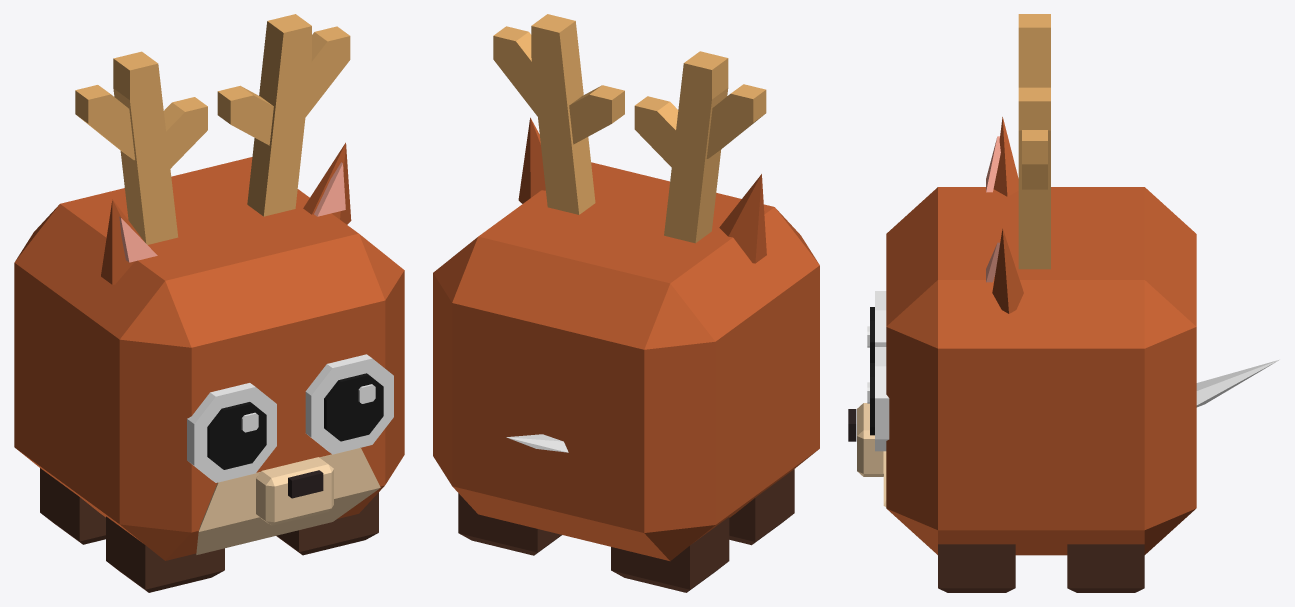
Rendered from Reindeer.fbx.
3 renders of one model, left to right at view 1: azimuth 30°, elevation 25°; view 2: azimuth 150°, elevation 25°; view 3: azimuth 270°, elevation 25°, orthographic.
Parts seen in each view (by area): view 1: Reindeer, Reindeer_Antlers, Reindeer_Cream, Reindeer_Feet, Reindeer_Eyes, Reindeer_Pupils, Reindeer_Ears, Reindeer_Pink, Reindeer_Nose; view 2: Reindeer, Reindeer_Antlers, Reindeer_Feet, Reindeer_Ears, Reindeer_Tail; view 3: Reindeer, Reindeer_Antlers, Reindeer_Feet, Reindeer_Ears, Reindeer_Eyes, Reindeer_Cream, Reindeer_Tail, Reindeer_Pink, Reindeer_Pupils.
Boxes of the visible parts, <box> form: Reindeer: <box>14,157,404,560</box>; Reindeer_Antlers: <box>75,14,350,244</box>; Reindeer_Cream: <box>196,448,380,554</box>; Reindeer_Feet: <box>40,468,378,592</box>; Reindeer_Eyes: <box>187,354,393,482</box>; Reindeer_Pupils: <box>207,373,383,469</box>; Reindeer_Ears: <box>101,142,351,284</box>; Reindeer_Pink: <box>119,162,345,262</box>; Reindeer_Nose: <box>288,470,323,498</box>; Reindeer: <box>433,162,819,561</box>; Reindeer_Antlers: <box>493,14,766,243</box>; Reindeer_Feet: <box>458,469,794,592</box>; Reindeer_Ears: <box>518,117,766,263</box>; Reindeer_Tail: <box>506,434,568,452</box>; Reindeer: <box>886,187,1196,555</box>; Reindeer_Antlers: <box>1018,14,1050,269</box>; Reindeer_Feet: <box>938,544,1144,592</box>; Reindeer_Ears: <box>992,117,1023,313</box>; Reindeer_Eyes: <box>867,291,889,451</box>; Reindeer_Cream: <box>857,403,886,507</box>; Reindeer_Tail: <box>1196,359,1279,407</box>; Reindeer_Pink: <box>986,136,1000,282</box>; Reindeer_Pupils: <box>870,307,874,435</box>.
Size of the model in its own units: 2 by 3.3 by 2.67.
